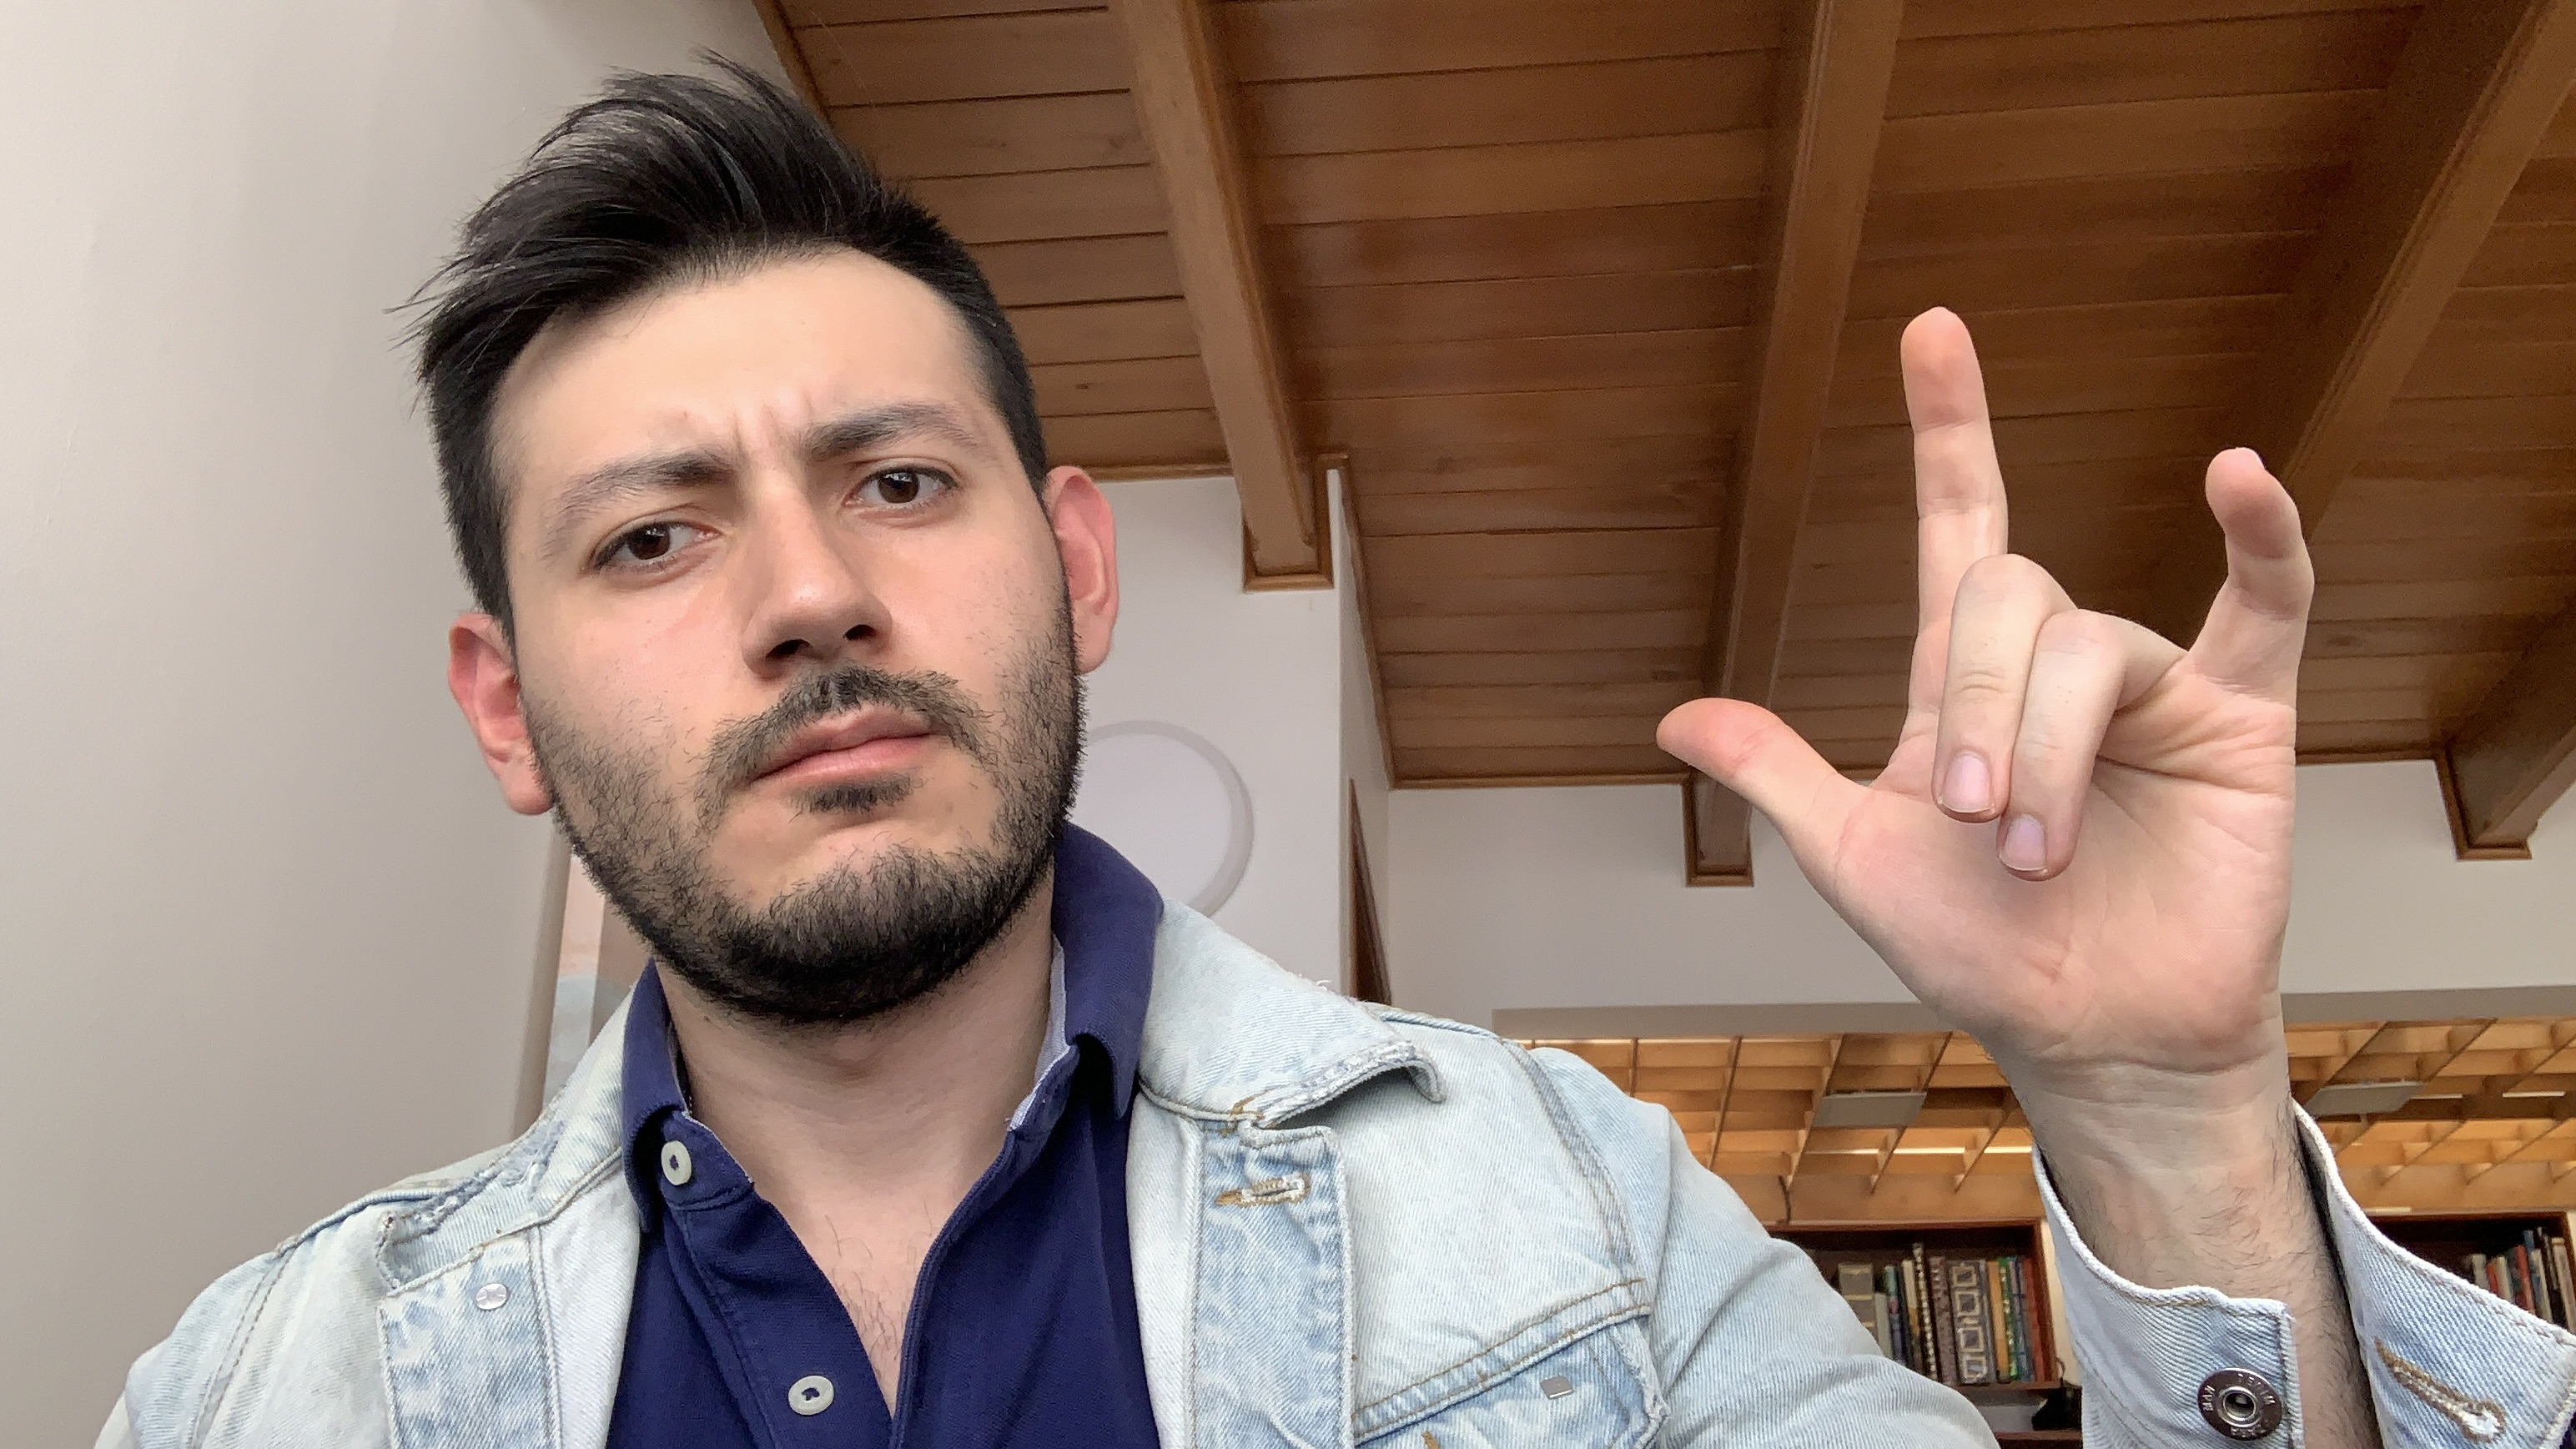I Love You: (1642, 295, 2335, 1111)
